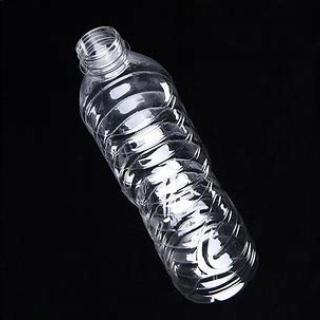Anorganik: (73, 20, 260, 306)
